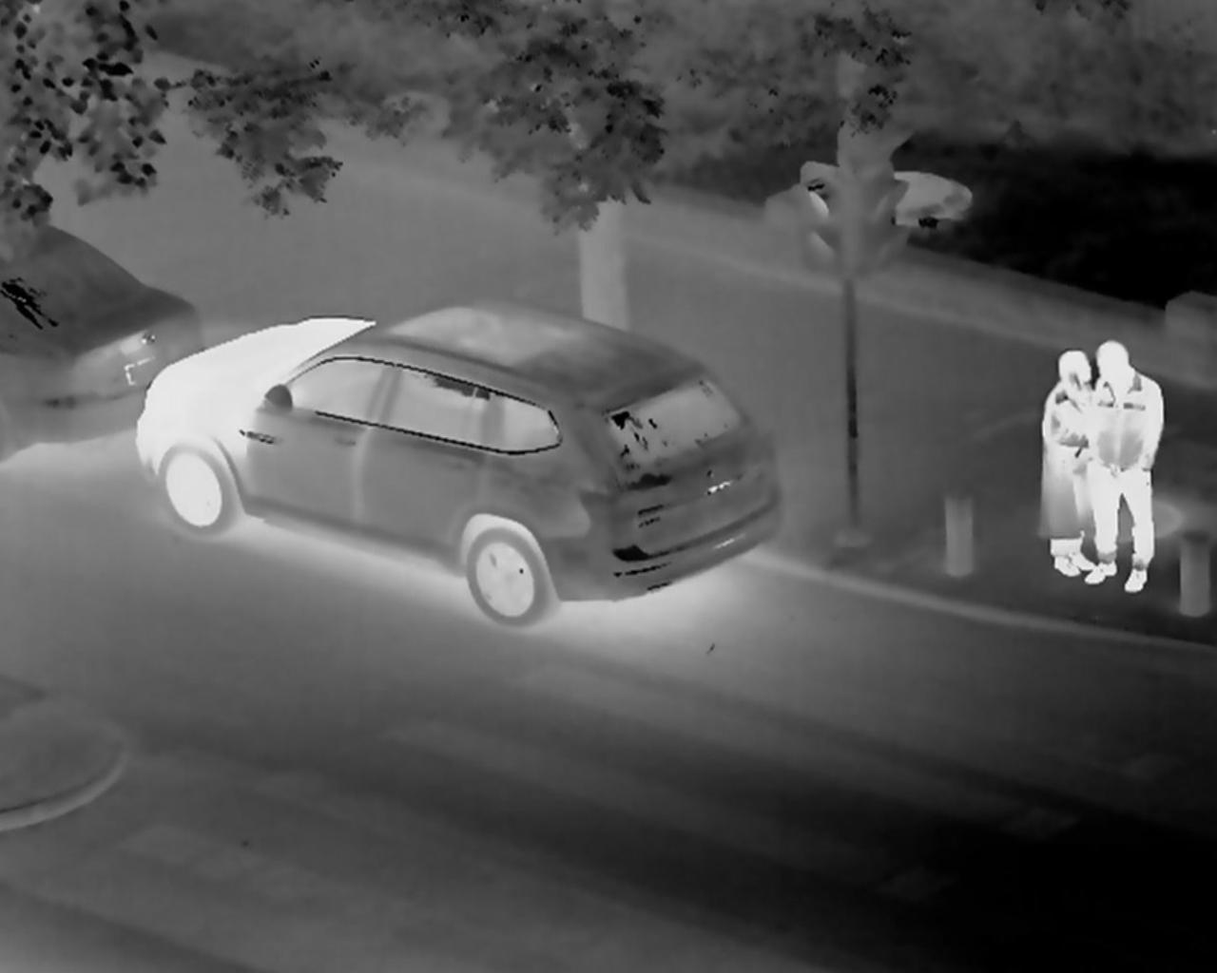person: (1093, 338, 1178, 613), (1033, 335, 1079, 566)
